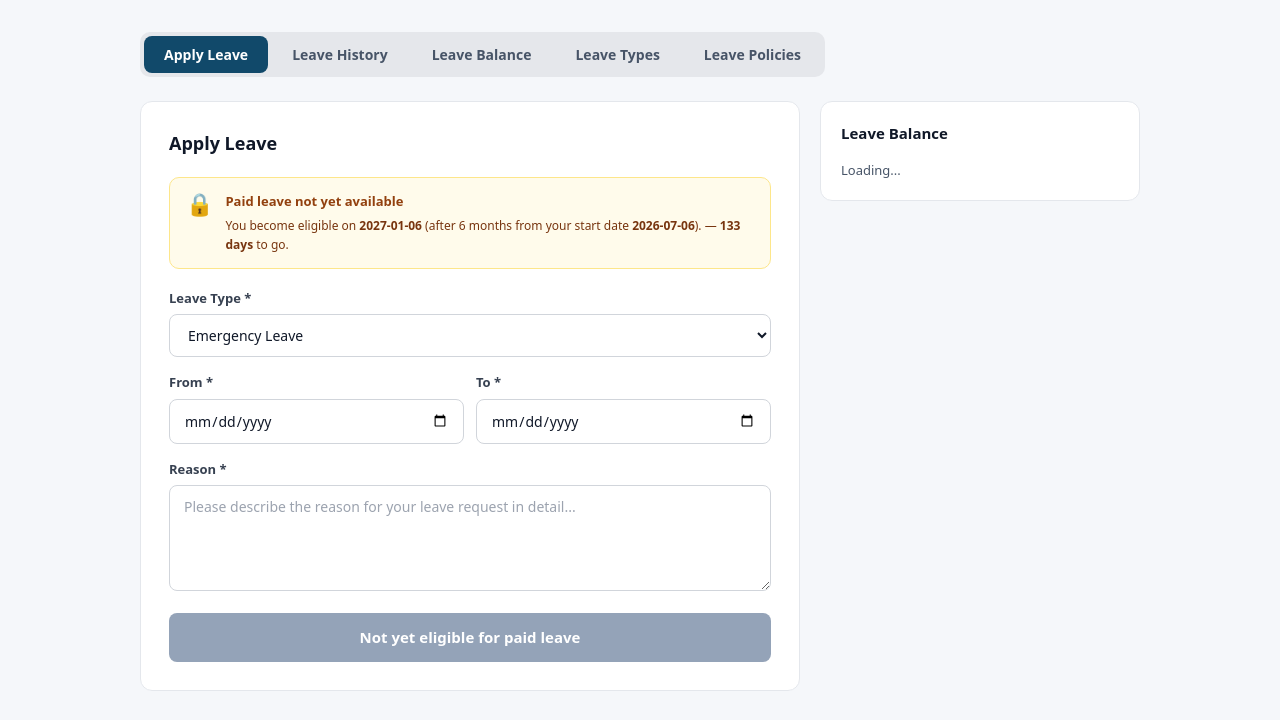
it: paid-leave waiting period banner › is NOT shown for Emergency Leave — this is the reported bug
Select "Emergency Leave" in the dropdown showing "Emergency Leave" at [470, 336], box top-left (169, 314), bottom-right (771, 357)
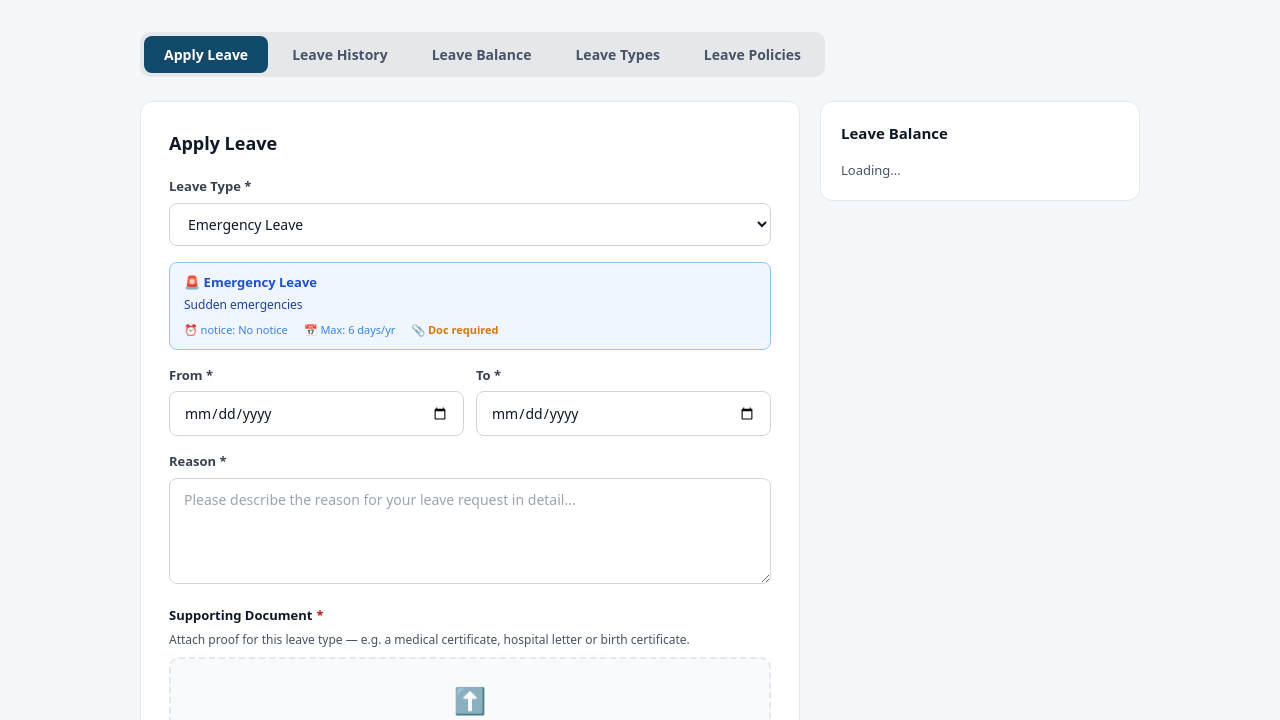
Now the text "Paid leave not yet available" is gone
